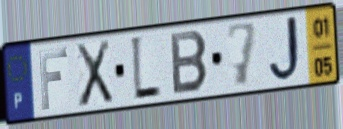7: (225, 20, 259, 92)
B: (168, 29, 210, 97)
F: (36, 46, 70, 113)
J: (267, 12, 306, 86)
L: (129, 34, 163, 105)
X: (73, 37, 115, 111)
